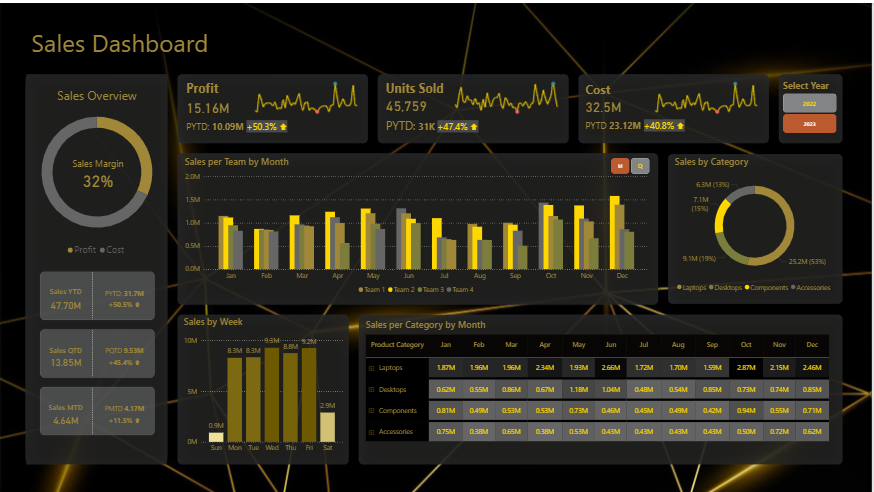

This screenshot's page, from the dashboard's own definition file:
{"tool":"powerbi","page":{"name":"Sales","canvas":[1920,1080],"ordinal":0},"visuals":[{"type":"textbox","box":[63.9,43.9,530,90],"z":0,"group":"g1"},{"type":"donutChart","title":"Sales by Category","fields":{"Y":["_Measures.Profit","_Measures.Cost"]},"box":[0.8,205.8,429.2,375.8],"z":1000},{"type":"card","title":"Sales Margin","fields":{"Values":["_Measures.Sales Margin %"]},"box":[141.2,340.2,150.2,72.4],"z":3000},{"type":"cardVisual","title":"Sales KPI","fields":{"Data":["_Measures.Sales YTD","_Measures.Sales QTD","_Measures.Sales MTD"]},"box":[77.8,571.9,275.1,403.6],"z":6000},{"type":"clusteredColumnChart","title":"Sales by Week","fields":{"Category":["calendar.Weekday Name"],"Y":["_Measures.Sales"]},"box":[390.8,673.3,382.5,343.3],"z":9000},{"type":"clusteredColumnChart","fields":{"Category":["calendar.Month"],"Series":["people.Team"],"Y":["_Measures.Sales"]},"box":[392.7,320.3,1055,345.6],"z":10000},{"type":"donutChart","title":"Sales by Category","fields":{"Category":["products.Category"],"Y":["_Measures.Sales"]},"box":[1471.3,320.3,383.6,340.2],"z":11000},{"type":"pivotTable","title":"Sales per Category by Month","fields":{"Values":["_Measures.Sales"],"Columns":["calendar.Month"],"Rows":["products.Category","products.Product"]},"box":[790.8,678.6,1064.1,343.8],"z":12000},{"type":"cardVisual","title":"Key Performance Indicators","fields":{"Data":["shipments.Profit","_Measures.Unit Sold","_Measures.Cost"]},"box":[371,143,1342.8,170.1],"z":13000},{"type":"textbox","box":[77.8,181,273.3,81.4],"z":14000},{"type":"group","id":"g1","title":"Group 1","box":[63.9,43.9,530,90],"z":15000},{"type":"PBI_CV_25997FEB_F466_44FA_B562_AC4063283C4C","fields":{"measure":["_Measures.Profit"],"axis":["calendar.Week"]},"box":[544.7,161.1,265,90.5],"z":16000},{"type":"PBI_CV_25997FEB_F466_44FA_B562_AC4063283C4C","fields":{"measure":["_Measures.Units Sold"],"axis":["calendar.Week"]},"box":[985,161,265,90.5],"z":17000},{"type":"PBI_CV_25997FEB_F466_44FA_B562_AC4063283C4C","fields":{"measure":["_Measures.Profit"],"axis":["calendar.Week"]},"box":[1426,161,265,90],"z":18000},{"type":"advancedSlicerVisual","title":"Select Year","fields":{"Values":["calendar.Year"]},"box":[1725.4,167.7,118.5,120],"z":19000},{"type":"advancedSlicerVisual","fields":{"Values":["Month-Quarter.Month-Quarter"]},"box":[1347.5,341,85,35],"z":20000}]}

Visuals, with their boxes in screenshot pixels (x1, y1, x2, y2), scaled from the page's 1920x1080 canvas onto the 874x492 screenshot:
textbox: {"left": 29, "top": 20, "right": 270, "bottom": 61}
"Sales by Category" donutChart: {"left": 0, "top": 94, "right": 196, "bottom": 265}
"Sales Margin" card: {"left": 64, "top": 155, "right": 133, "bottom": 188}
"Sales KPI" cardVisual: {"left": 35, "top": 261, "right": 161, "bottom": 444}
"Sales by Week" clusteredColumnChart: {"left": 178, "top": 307, "right": 352, "bottom": 463}
clusteredColumnChart - calendar.Month x people.Team: {"left": 179, "top": 146, "right": 659, "bottom": 303}
"Sales by Category" donutChart: {"left": 670, "top": 146, "right": 844, "bottom": 301}
"Sales per Category by Month" pivotTable: {"left": 360, "top": 309, "right": 844, "bottom": 466}
"Key Performance Indicators" cardVisual: {"left": 169, "top": 65, "right": 780, "bottom": 143}
textbox: {"left": 35, "top": 82, "right": 160, "bottom": 120}
"Group 1" group: {"left": 29, "top": 20, "right": 270, "bottom": 61}
PBI_CV_25997FEB_F466_44FA_B562_AC4063283C4C - _Measures.Profit x calendar.Week: {"left": 248, "top": 73, "right": 369, "bottom": 115}
PBI_CV_25997FEB_F466_44FA_B562_AC4063283C4C - _Measures.Units Sold x calendar.Week: {"left": 448, "top": 73, "right": 569, "bottom": 115}
PBI_CV_25997FEB_F466_44FA_B562_AC4063283C4C - _Measures.Profit x calendar.Week: {"left": 649, "top": 73, "right": 770, "bottom": 114}
"Select Year" advancedSlicerVisual: {"left": 785, "top": 76, "right": 839, "bottom": 131}
advancedSlicerVisual - Month-Quarter.Month-Quarter: {"left": 613, "top": 155, "right": 652, "bottom": 171}
